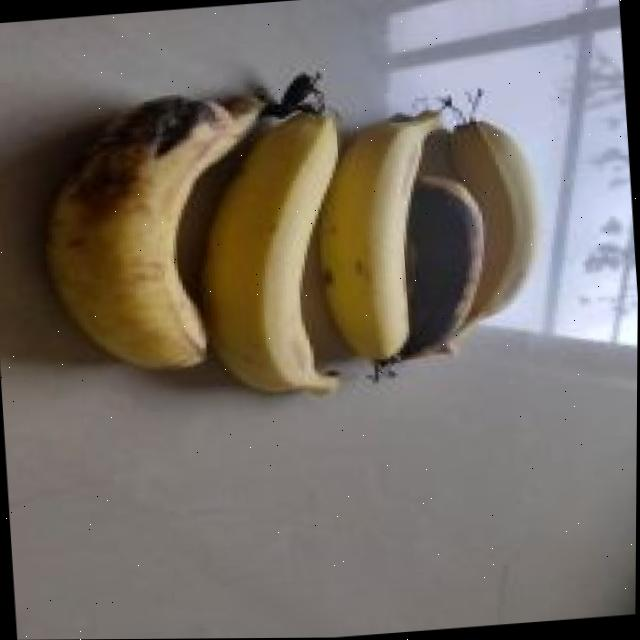Wet: (35, 81, 342, 383), (365, 167, 500, 384)
